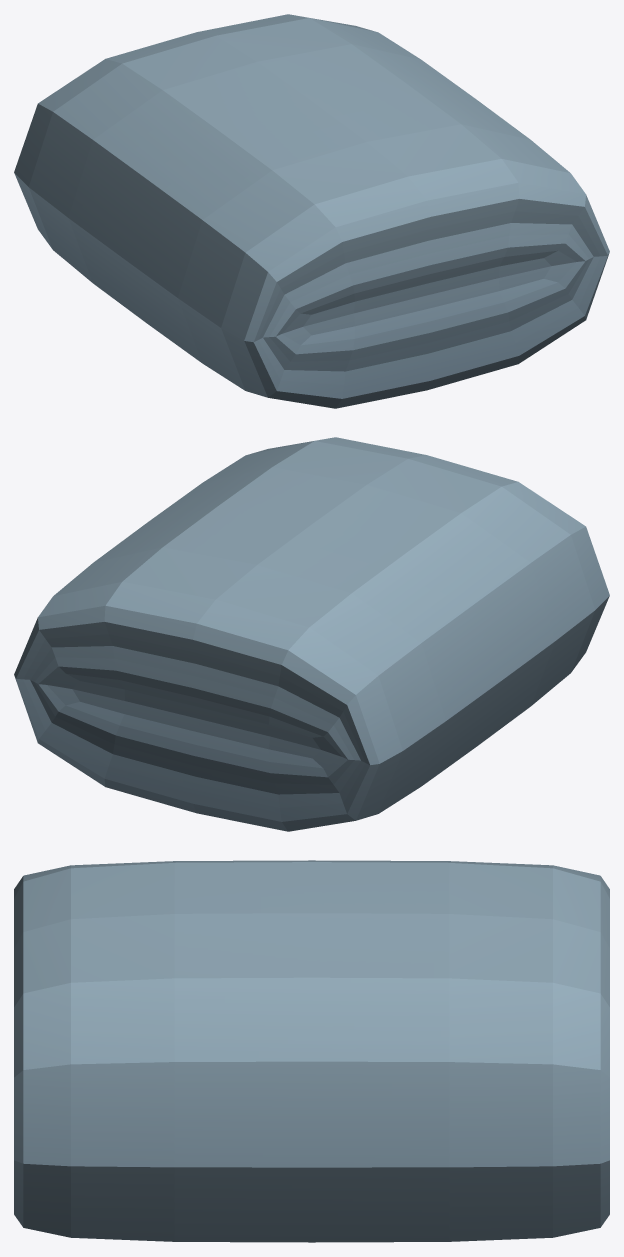
File: Clothes2_C6.fbx
3 renders of one model, top to bottom at view 1: azimuth 30°, elevation 25°; view 2: azimuth 150°, elevation 25°; view 3: azimuth 270°, elevation 25°, orthographic. The views are drawn at different scales.
Visible parts, largest first — view 1: Clothes2_C6; view 2: Clothes2_C6; view 3: Clothes2_C6.
Boxes of the visible parts, x1,y1,x2,y2 form: Clothes2_C6: (14, 14, 609, 408); Clothes2_C6: (14, 437, 609, 831); Clothes2_C6: (14, 860, 609, 1242).
Bounding box in the file's own units: 21.86 × 12.06 × 23.8.
